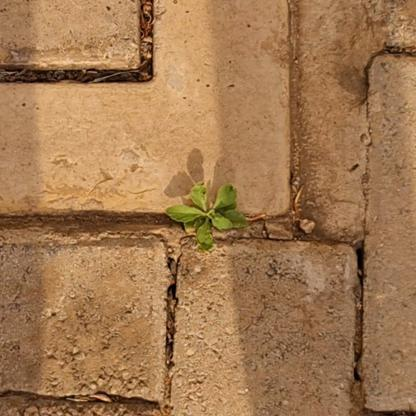Weeds: (166, 181, 249, 253)
